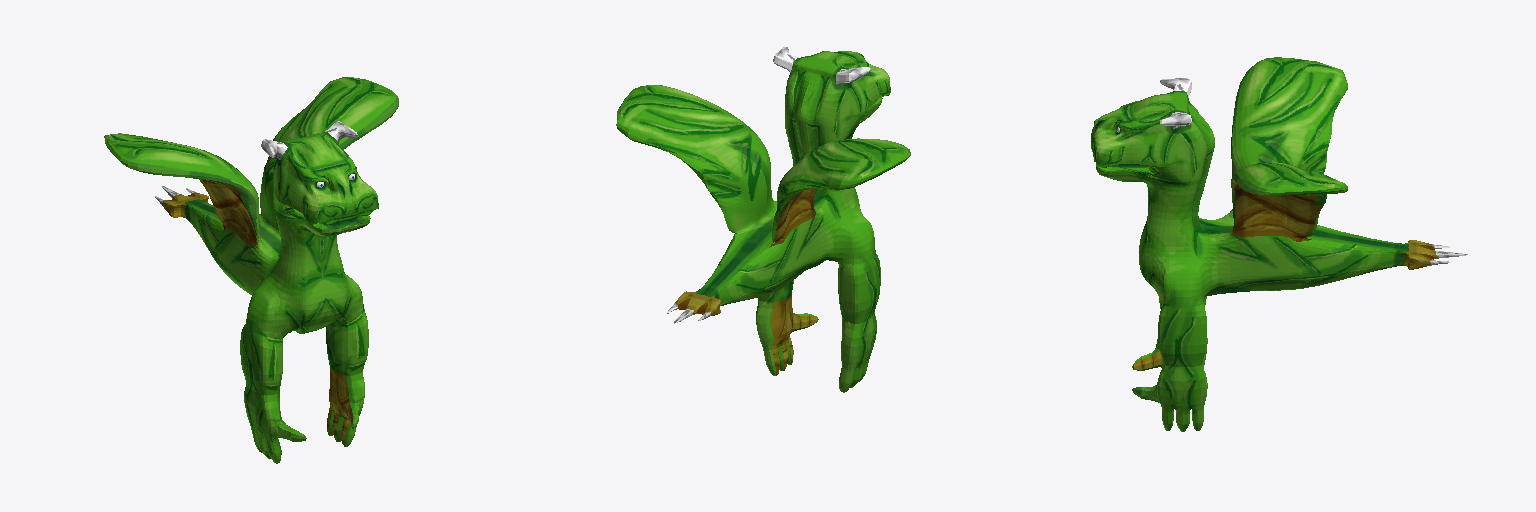
The picture shows the model from 3 angles: view 1: azimuth 30°, elevation 25°; view 2: azimuth 150°, elevation 25°; view 3: azimuth 270°, elevation 25°; orthographic projection.
Parts seen in each view (by area): view 1: HevDragon_Cube; view 2: HevDragon_Cube; view 3: HevDragon_Cube.
Boxes of the visible parts, x1,y1,x2,y2 form: HevDragon_Cube: [104, 77, 398, 463]; HevDragon_Cube: [616, 47, 910, 392]; HevDragon_Cube: [1091, 57, 1467, 431].
Size of the model in its own units: 10.3 by 11.4 by 12.27.
1 materials, 1 textured.